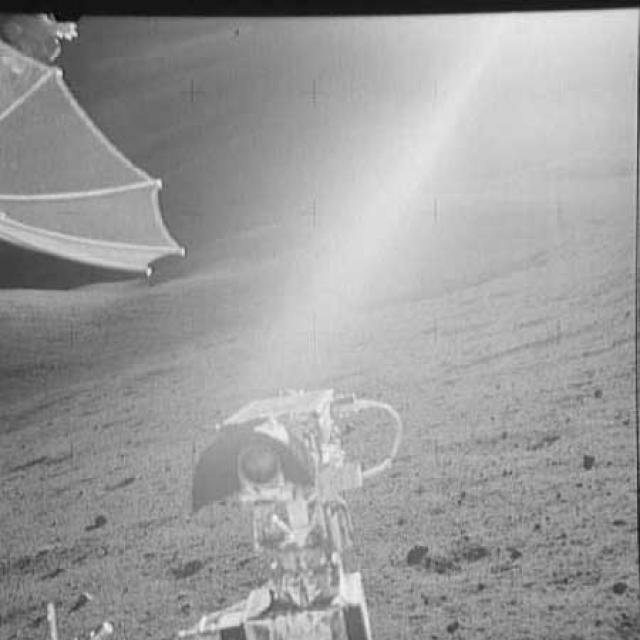artifact: (173, 374, 410, 639), (0, 0, 194, 288)
crater: (435, 424, 570, 463), (386, 542, 508, 584)
